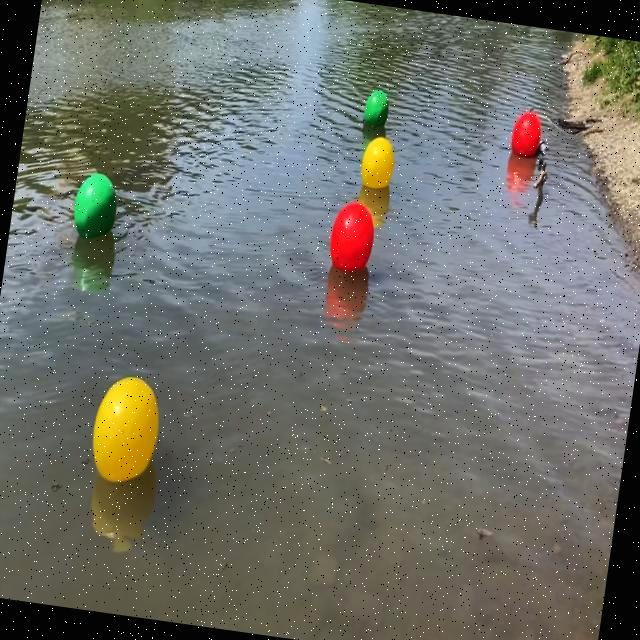buoy: (86, 370, 166, 490), (326, 196, 379, 276), (70, 170, 123, 243), (358, 133, 399, 193), (507, 108, 548, 163), (362, 87, 392, 130)
